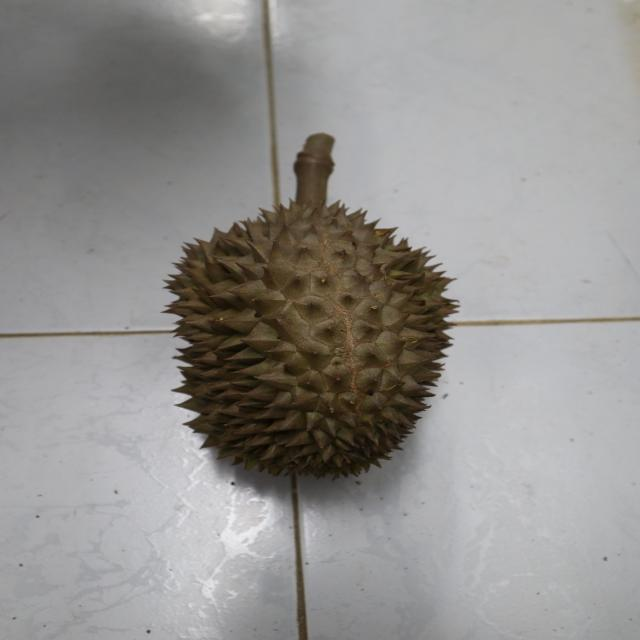mature: (154, 196, 464, 474)
